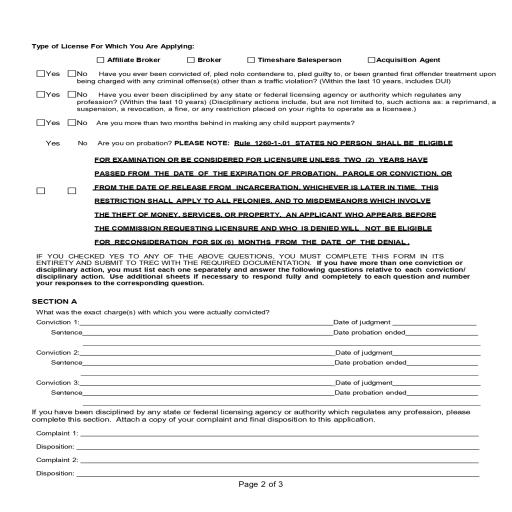check_box: (245, 54, 347, 66), (365, 52, 444, 66), (34, 114, 88, 130), (96, 53, 163, 65), (33, 67, 89, 79), (36, 88, 90, 99), (187, 54, 226, 66)
date: (333, 358, 408, 367), (334, 389, 408, 397), (332, 329, 407, 336), (332, 318, 393, 326), (334, 348, 394, 356), (334, 378, 394, 386)
free_text: (34, 318, 80, 328), (34, 347, 81, 356), (34, 442, 75, 452), (35, 456, 79, 465), (34, 379, 80, 387), (35, 428, 80, 436), (36, 470, 76, 478)
